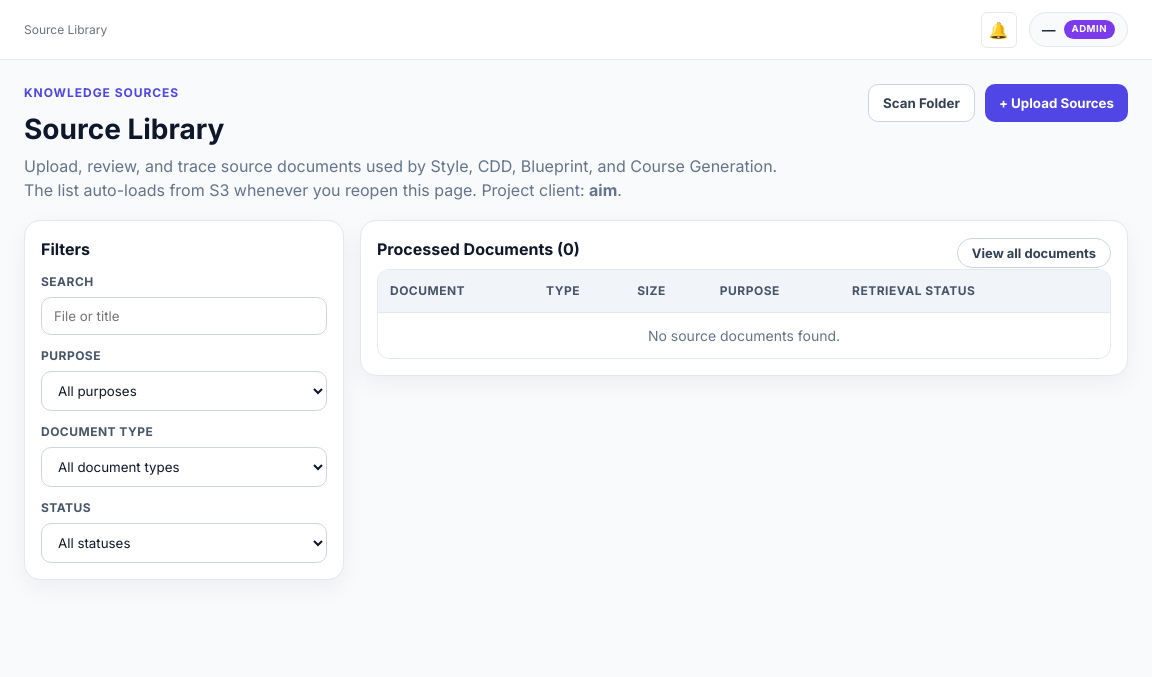
Test: SourceLibraryPage upload metadata › renders document_type select when schema-controlled values are provided
Click the button "+ Upload Sources" at (1056, 103), box x1=985 y1=84 x2=1128 y2=122
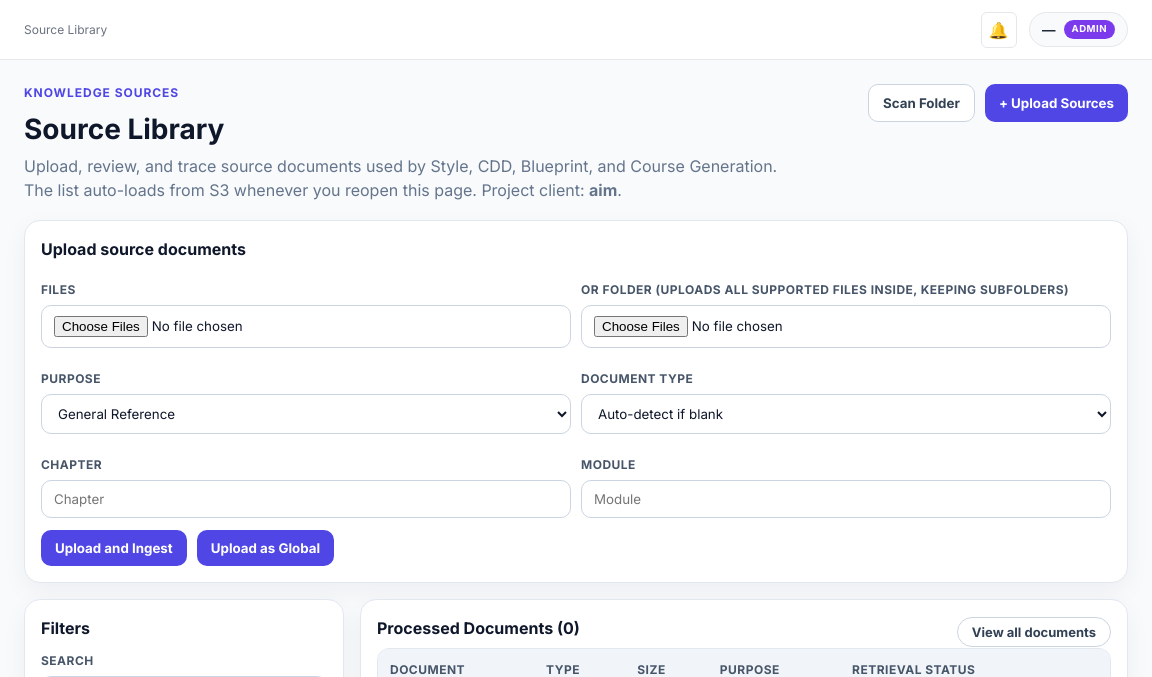
Result: the heading "Upload source documents" is shown at x1=41 y1=239 x2=246 y2=259
Result: the 2nd dropdown named "document_type" is shown at x1=581 y1=394 x2=1111 y2=434
